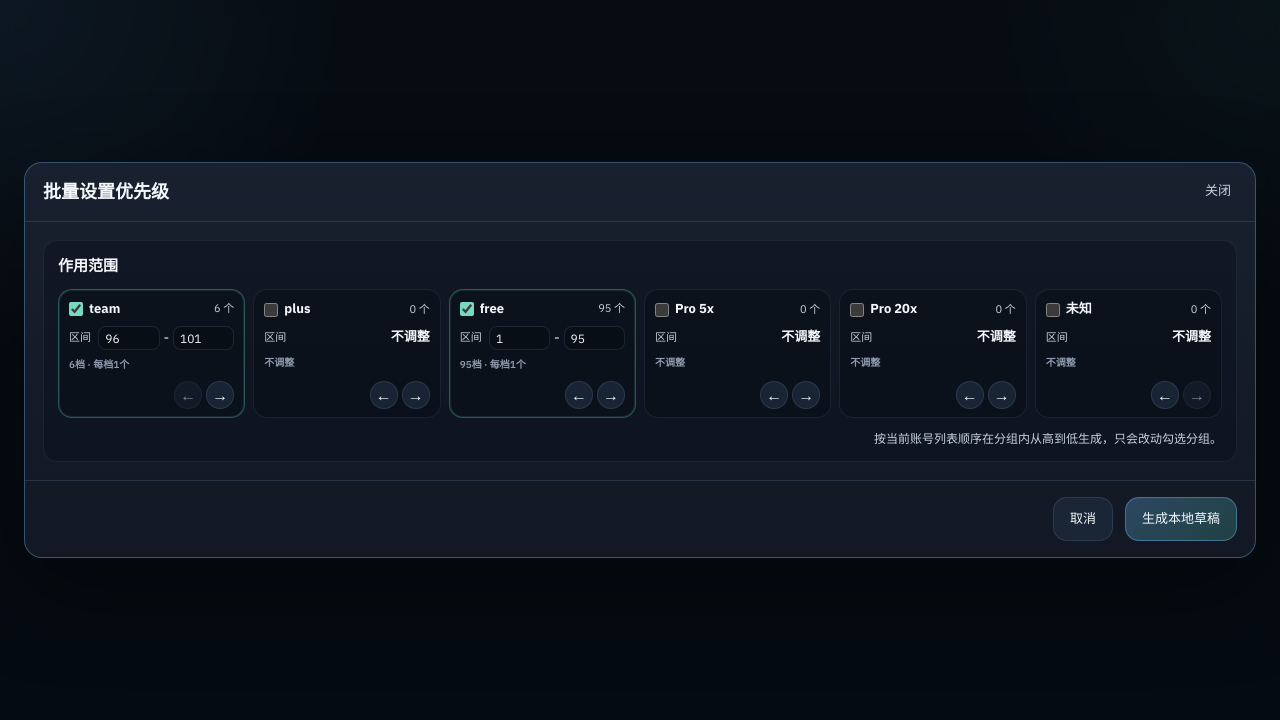
it: PriorityBatchPanel › 取消勾选分组时只改变作用范围，不会隐式改写其它分组区间
Expected: the number field named "team 最小优先级" holds "96", [98,326,160,350]
Expected: the number field named "team 最大优先级" holds "101", [173,326,234,350]
What coordinates should you click on to do the following:
click the checkbox named "调整 free"
I would click on:
 (467, 309)
Its box is [460,302,474,316].
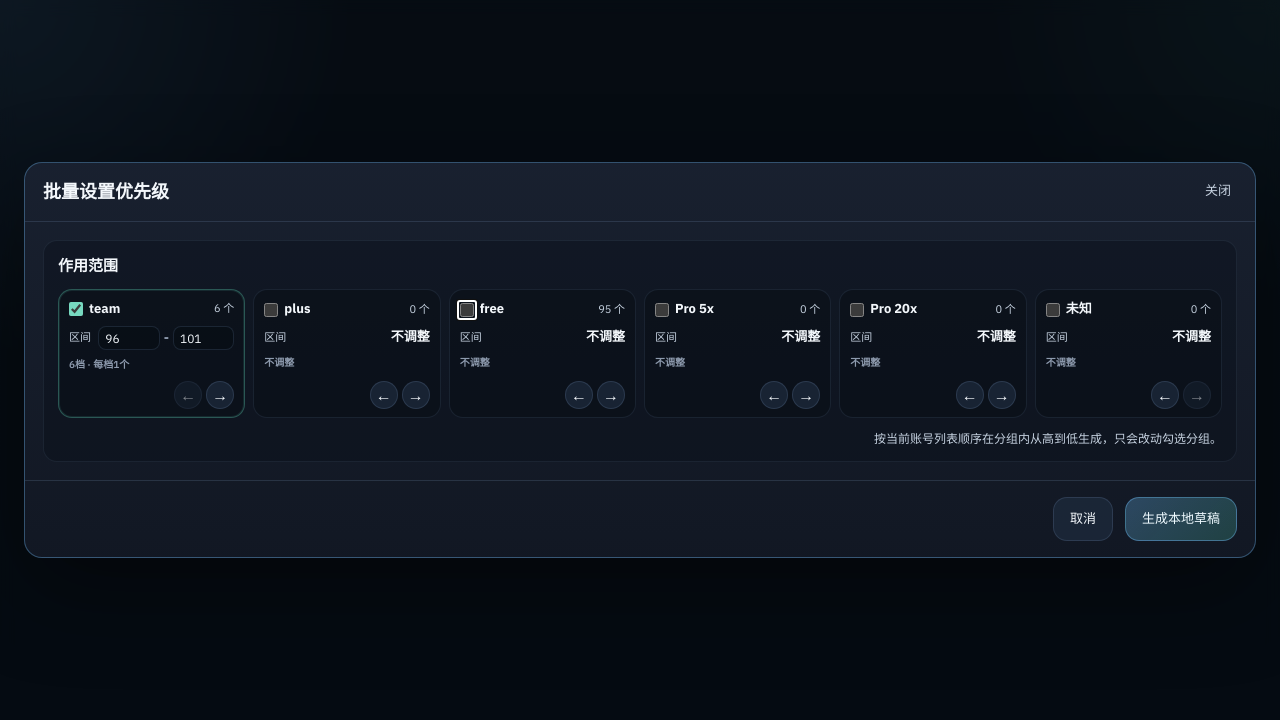
Expected: the 1st text "不调整" is shown, [391,328,430,347]
What coordinates should you click on to do the following:
click the checkbox named "调整 free"
I would click on:
 (467, 310)
Its box is [460,303,474,317].
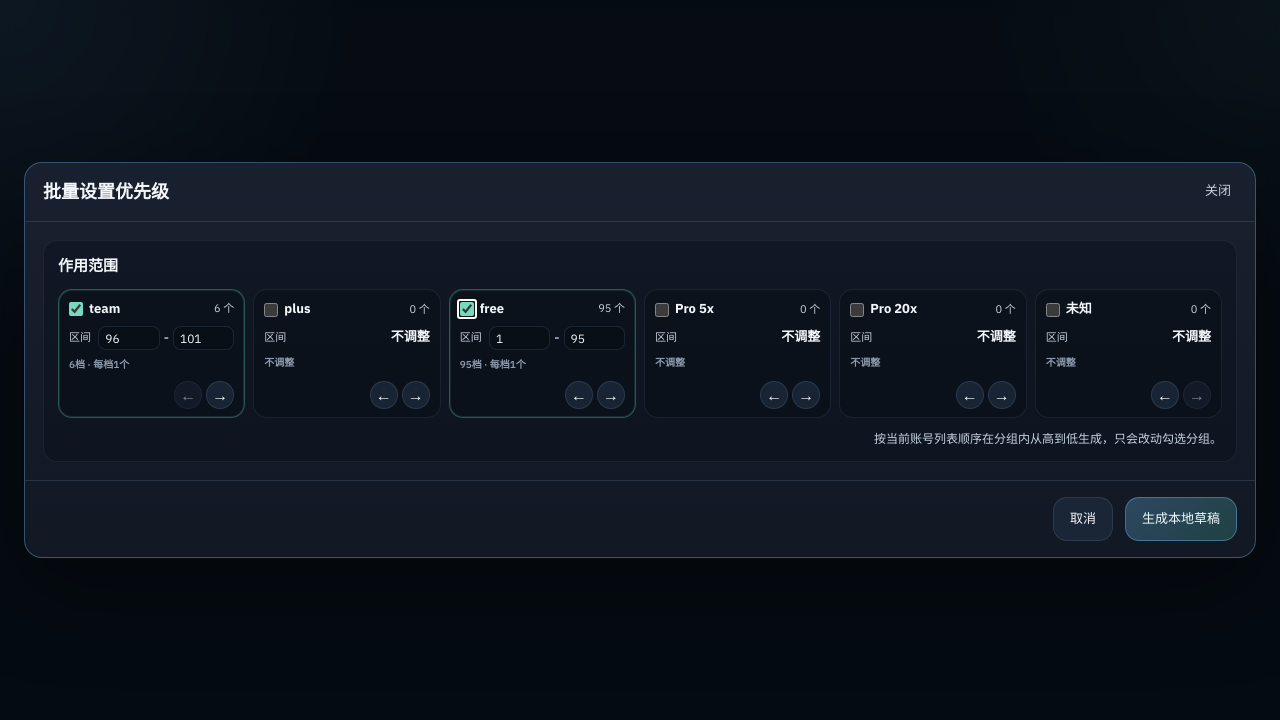
Expected: the number field named "free 最小优先级" holds "1", [489,326,550,350]
Expected: the number field named "free 最大优先级" holds "95", [564,326,625,350]
